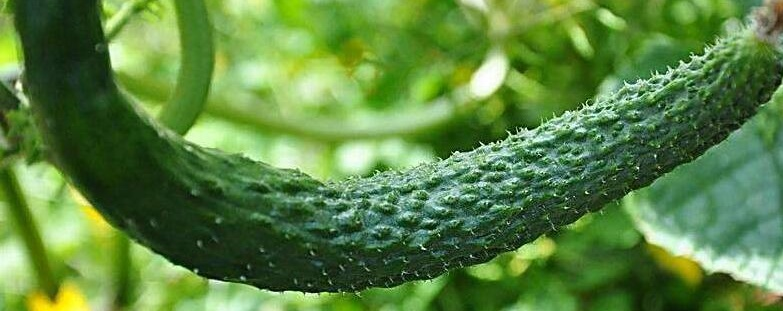cucumber: (33, 8, 776, 290)
